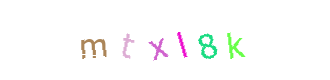8: (167, 0, 247, 80)
K: (193, 0, 273, 80)
L: (128, 0, 208, 80)
M: (53, 0, 133, 80)
T: (112, 0, 192, 80)
X: (124, 0, 204, 80)
